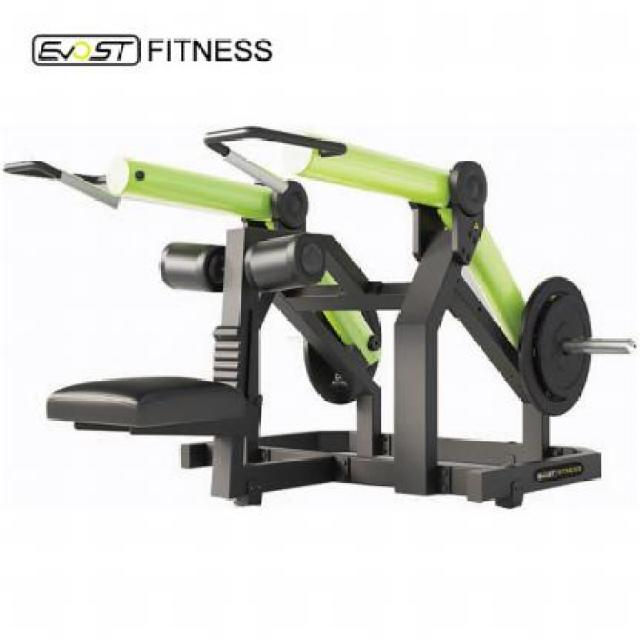seated dip machine: (4, 123, 638, 511)
